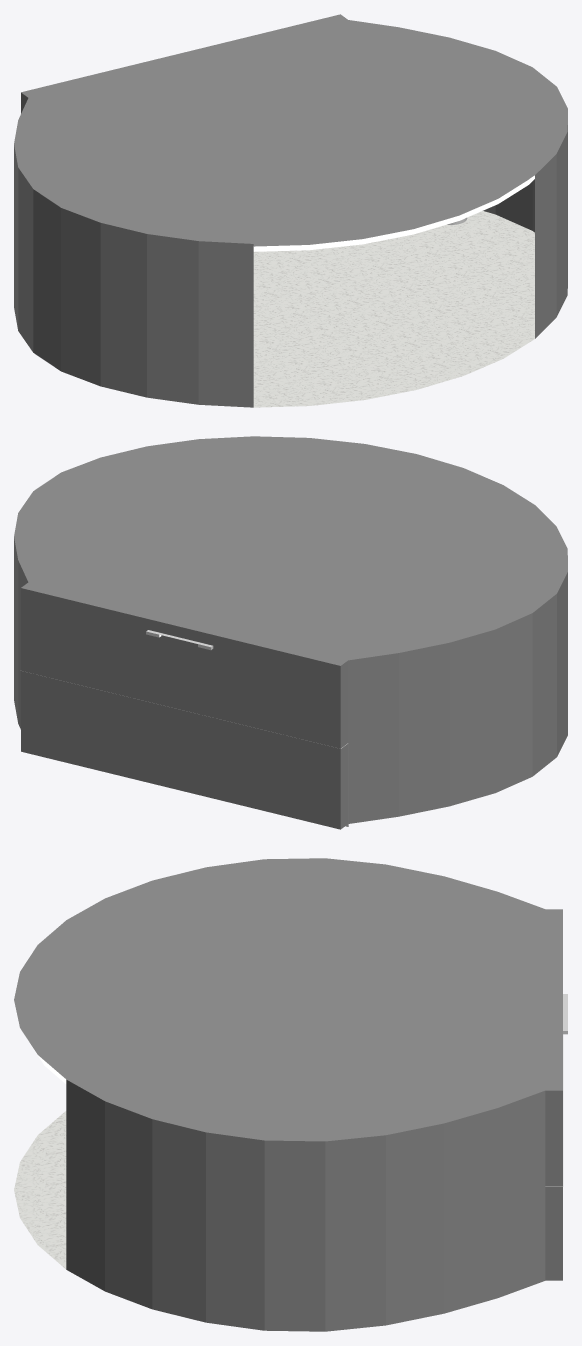
File: lobby draft5.glb
The picture shows the model from 3 angles, top to bottom: view 1: azimuth 30°, elevation 25°; view 2: azimuth 150°, elevation 25°; view 3: azimuth 270°, elevation 25°; orthographic projection. The views are drawn at different scales.
Parts seen in each view (by area): view 1: Cylinder.002, Cylinder.007, Cylinder.003, Cylinder.004; view 2: Cylinder.002, Cylinder.007; view 3: Cylinder.002, Cylinder.007, Cylinder.003.
Boxes of the visible parts, <box> form: Cylinder.002: <box>14,14,567,243</box>; Cylinder.007: <box>14,92,567,407</box>; Cylinder.003: <box>253,211,534,407</box>; Cylinder.004: <box>253,175,534,251</box>; Cylinder.002: <box>14,436,567,665</box>; Cylinder.007: <box>14,537,567,829</box>; Cylinder.002: <box>14,858,562,1141</box>; Cylinder.007: <box>66,1079,562,1331</box>; Cylinder.003: <box>14,1111,66,1269</box>.
Size of the model in its own units: 25.81 by 8.23 by 21.34.
19 materials, 3 textured.
